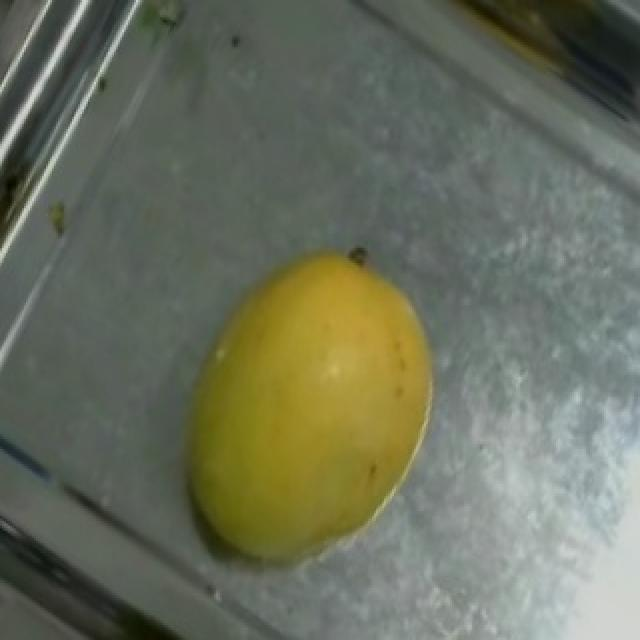fruit: (120, 204, 492, 600)
